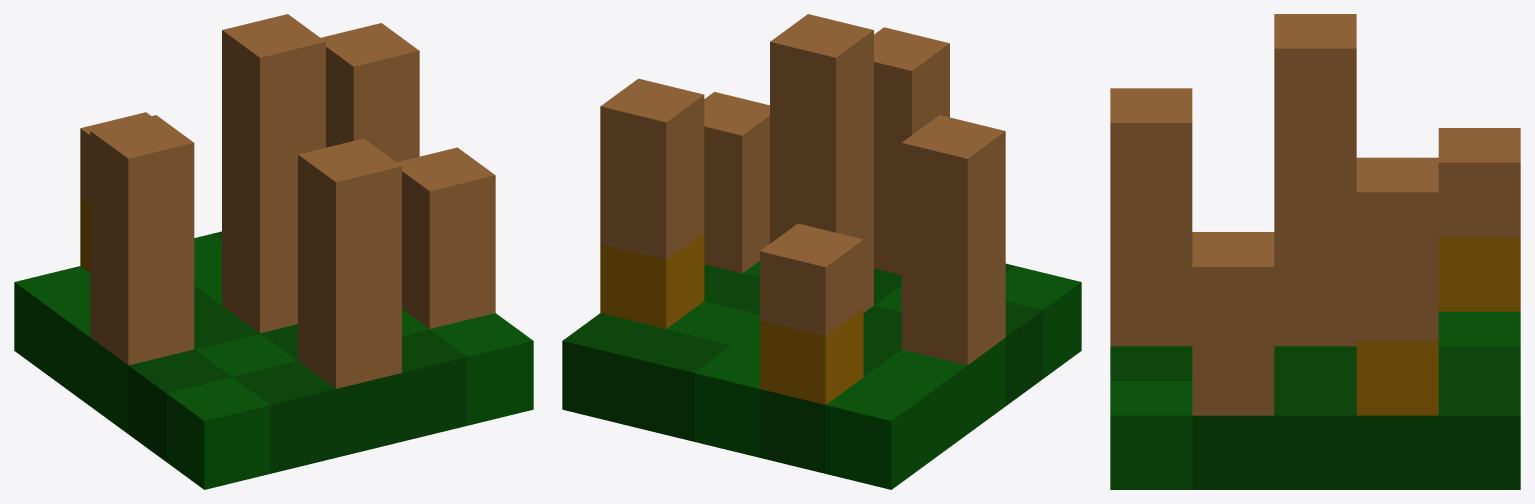
File: Wooden_Spikes.obj
The picture shows the model from 3 angles, left to right: view 1: azimuth 30°, elevation 25°; view 2: azimuth 150°, elevation 25°; view 3: azimuth 270°, elevation 25°; orthographic projection. The views are drawn at different scales.
Visible parts, largest first — view 1: Wooden_Spikes; view 2: Wooden_Spikes; view 3: Wooden_Spikes.
Boxes of the visible parts, x1=… form: Wooden_Spikes: x1=14, y1=14, x2=533, y2=489; Wooden_Spikes: x1=562, y1=14, x2=1081, y2=489; Wooden_Spikes: x1=1110, y1=14, x2=1520, y2=489.
Size of the model in its own units: 5 by 5 by 5.
Materials: 1 (1 with a texture image).
